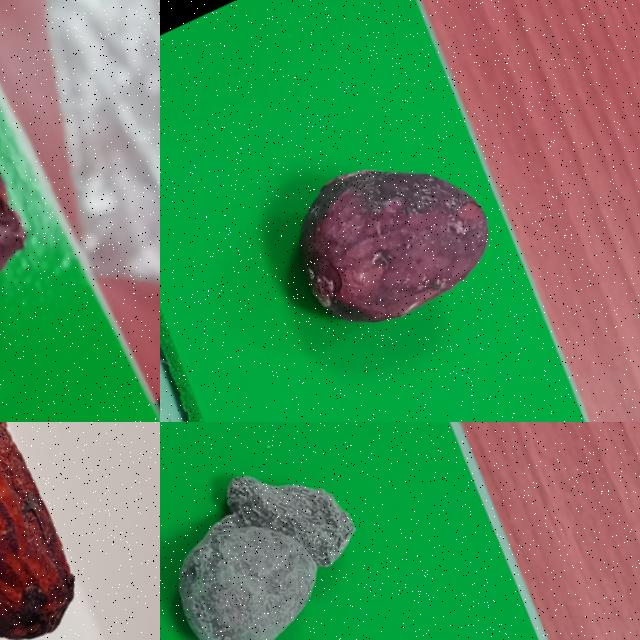Agglomerated_cocoabeans: (160, 422, 439, 639)
Fine_cocoabeans: (200, 66, 532, 414), (0, 422, 122, 639)
Flat_cocoabeans: (0, 34, 91, 421)
